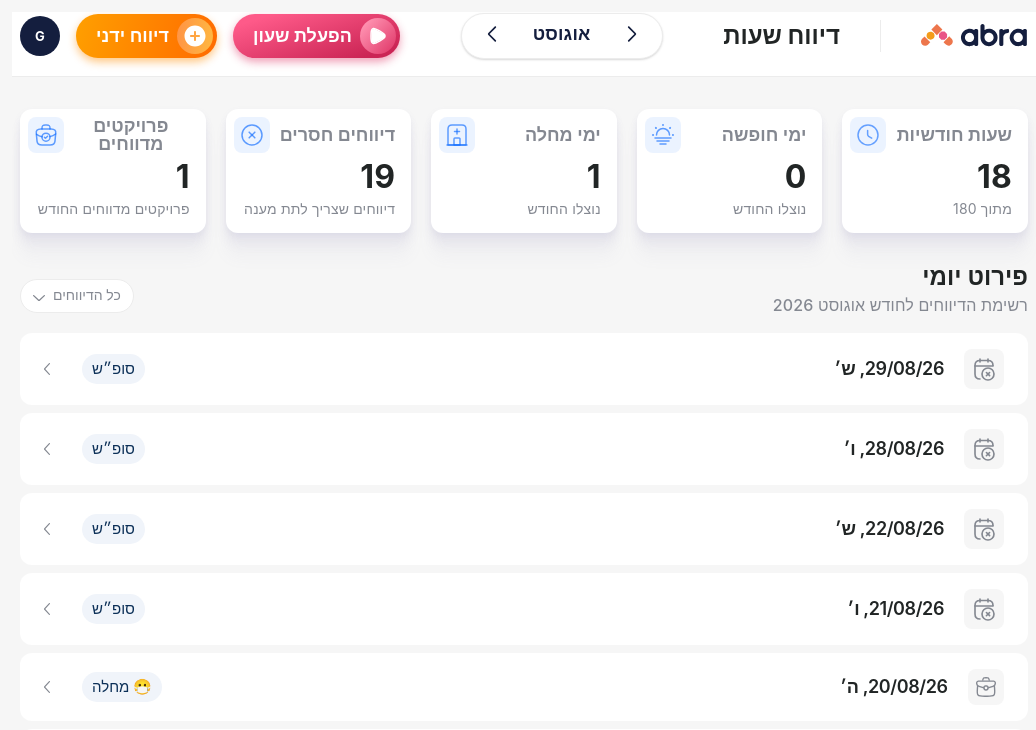
it: Reports home shell › day-status filter › carries the filter across a month change
Step 1. Click the button with test id "status-filter" → {"x": 77, "y": 296}, box left=20, top=279, right=134, bottom=313
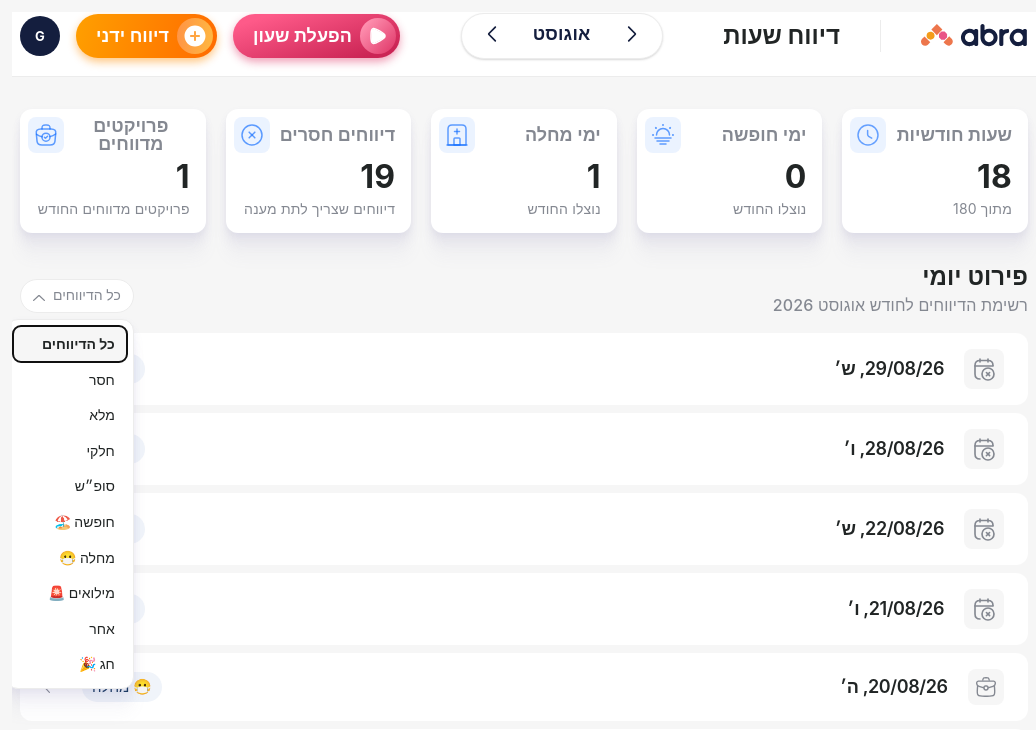
Step 2. Click the option "חסר" → {"x": 70, "y": 379}, box left=13, top=362, right=127, bottom=397
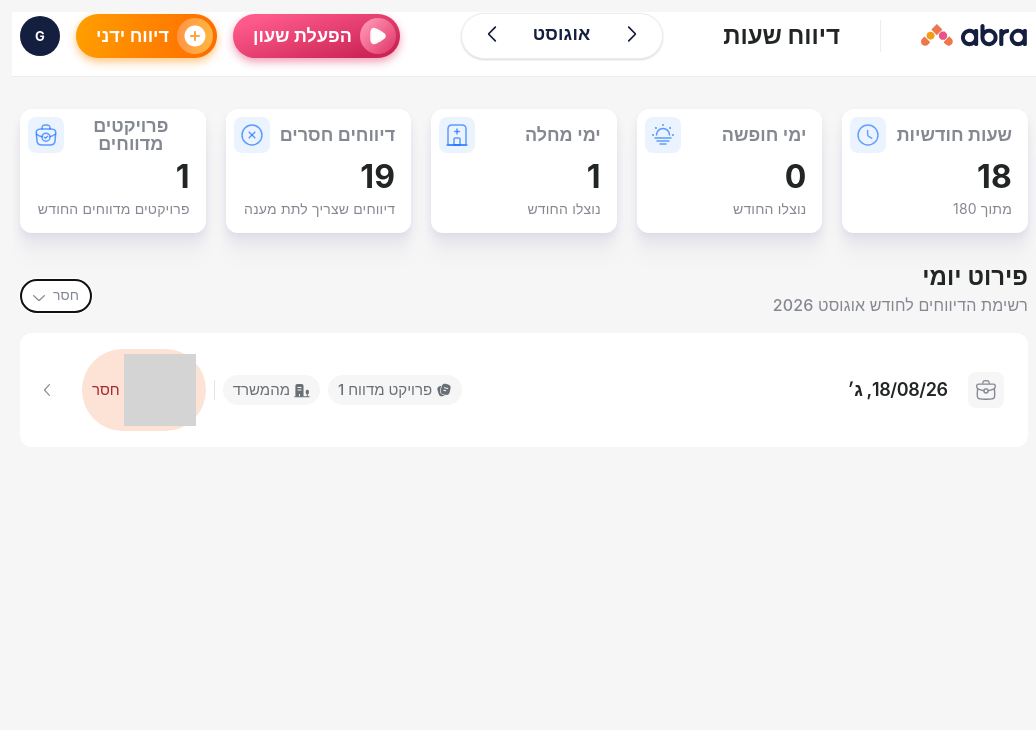
Result: the button with test id "status-filter" reads "חסר" at left=20, top=279, right=92, bottom=313
Step 3. Click the button named "חודש הבא" → {"x": 492, "y": 34}, box left=482, top=24, right=502, bottom=44
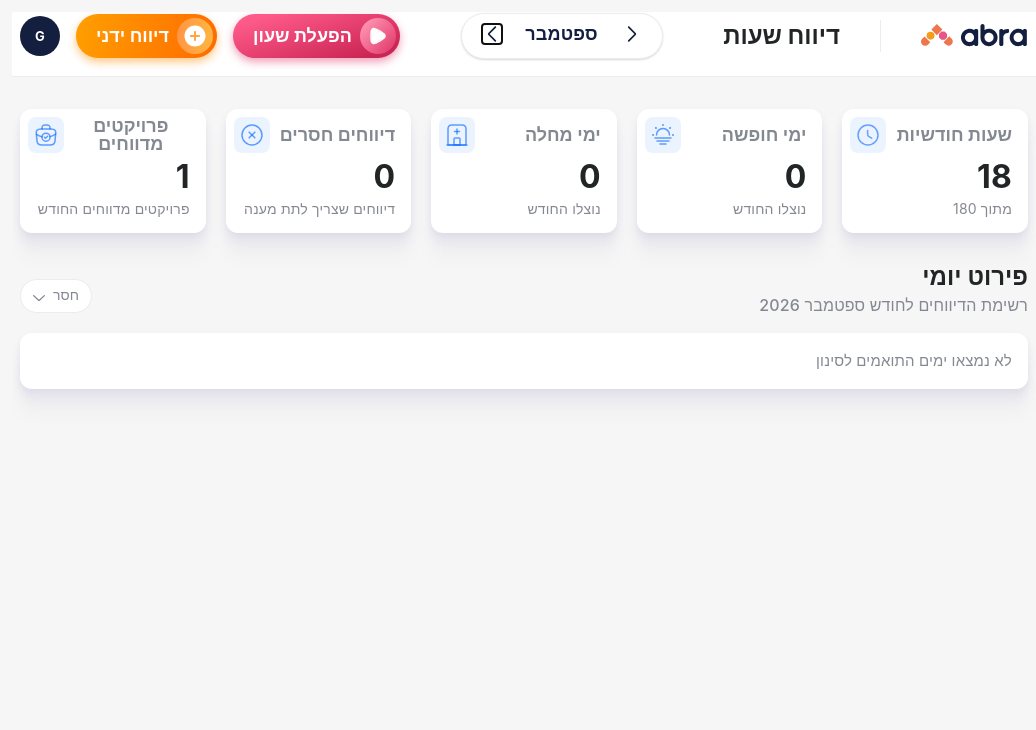
Result: the button with test id "status-filter" reads "חסר" at left=20, top=279, right=92, bottom=313
Result: the text "לא נמצאו ימים התואמים לסינון" is shown at left=20, top=333, right=1028, bottom=389
